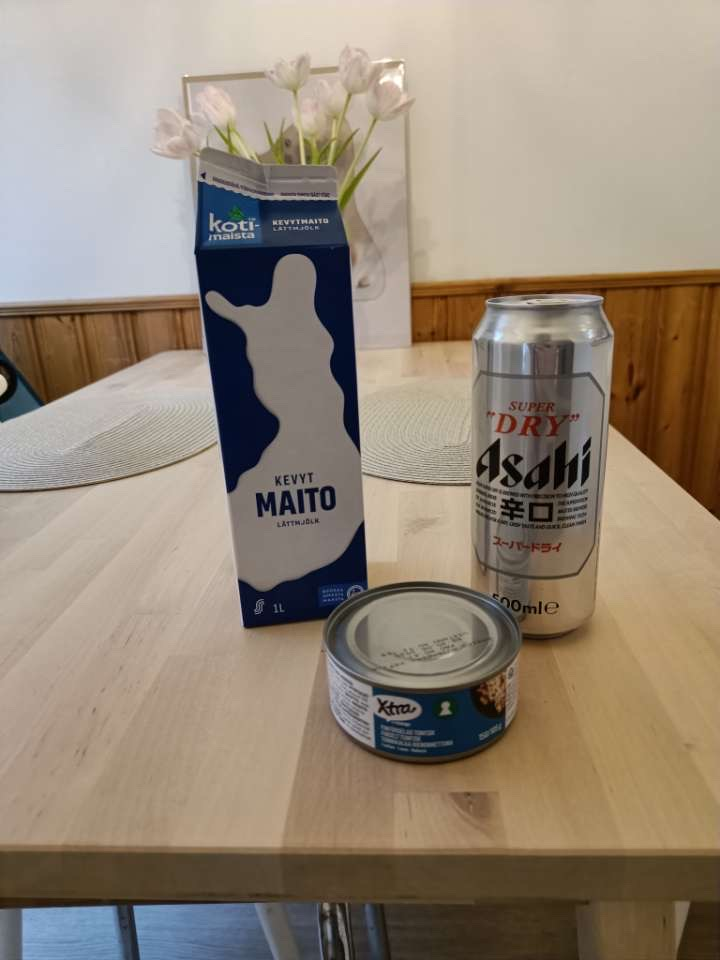Dryckeskartong: (191, 145, 372, 632)
Konservburk: (323, 580, 523, 763)
Pantburk: (468, 292, 617, 636)
